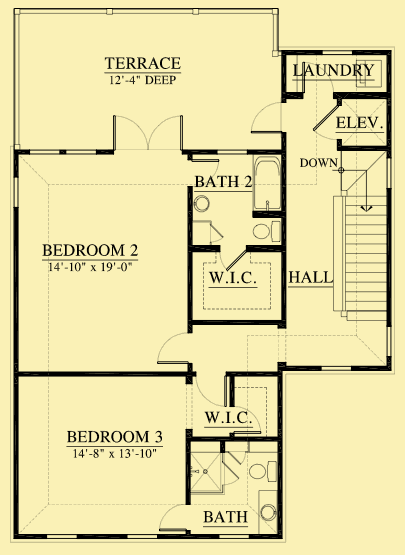bathroom has a small and large sink with shower space: (183, 433, 280, 540)
bathroom has small and large sink with a bathtub: (186, 148, 286, 255)
these are stairs to the other floors: (325, 147, 390, 367)
